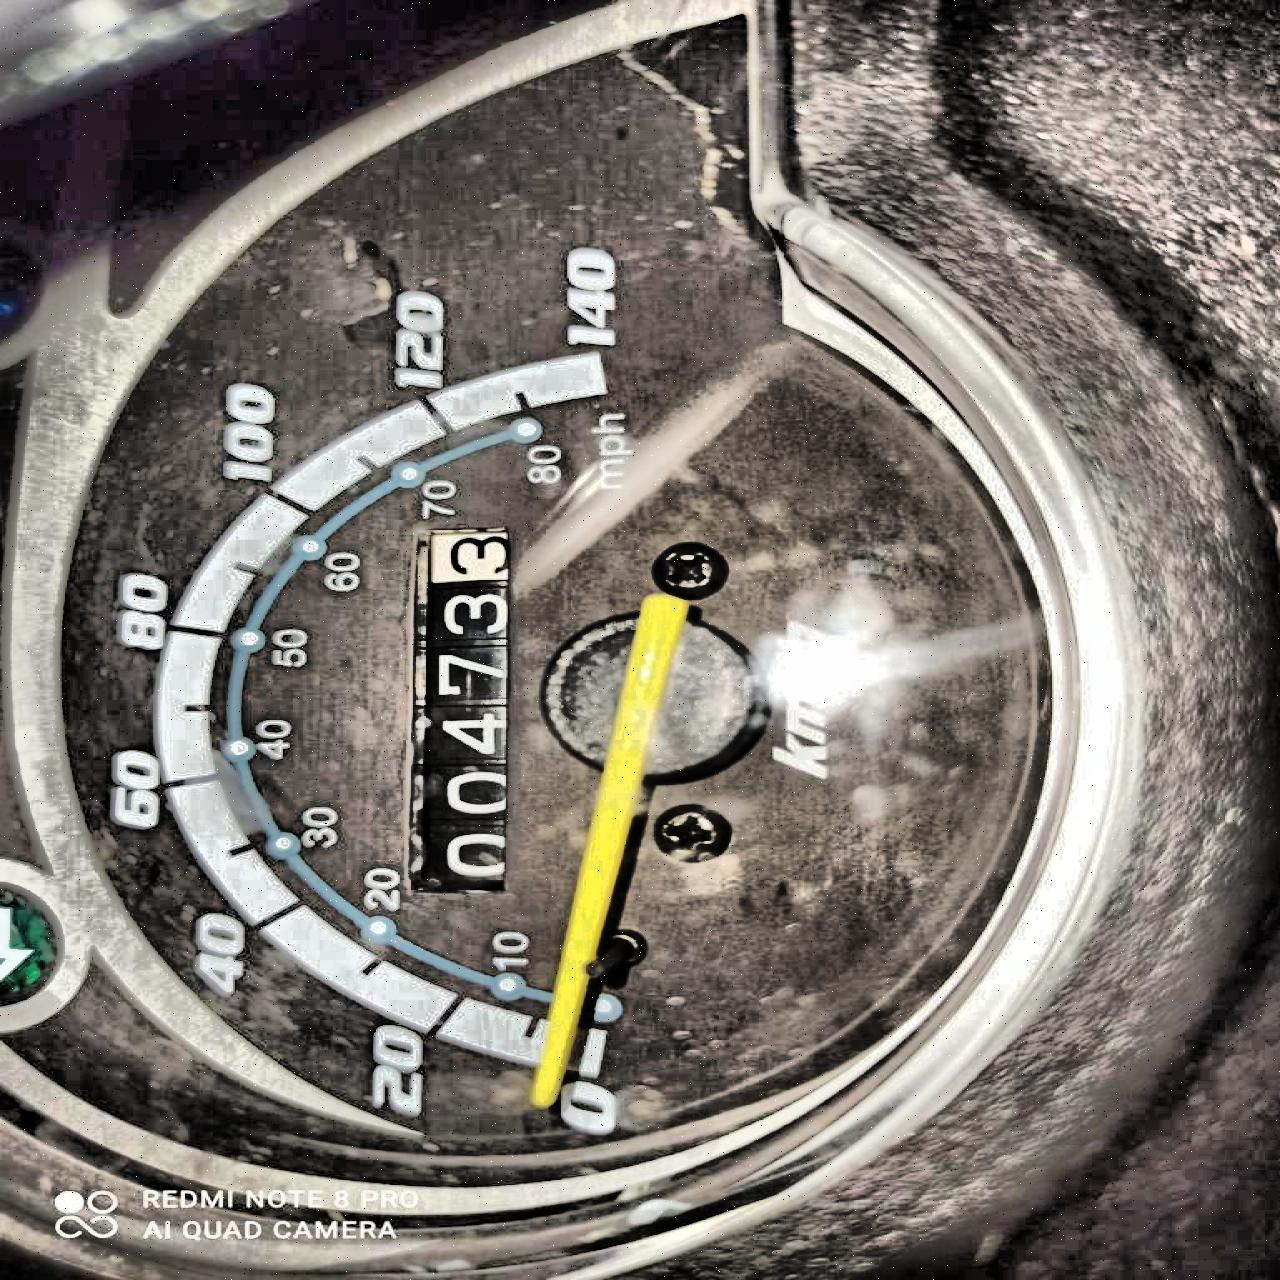0: (435, 828, 515, 880), (438, 770, 516, 818)
3: (440, 535, 520, 579), (435, 592, 512, 636)
4: (433, 707, 509, 754)
7: (428, 649, 509, 695)
odometer: (407, 523, 533, 898)
